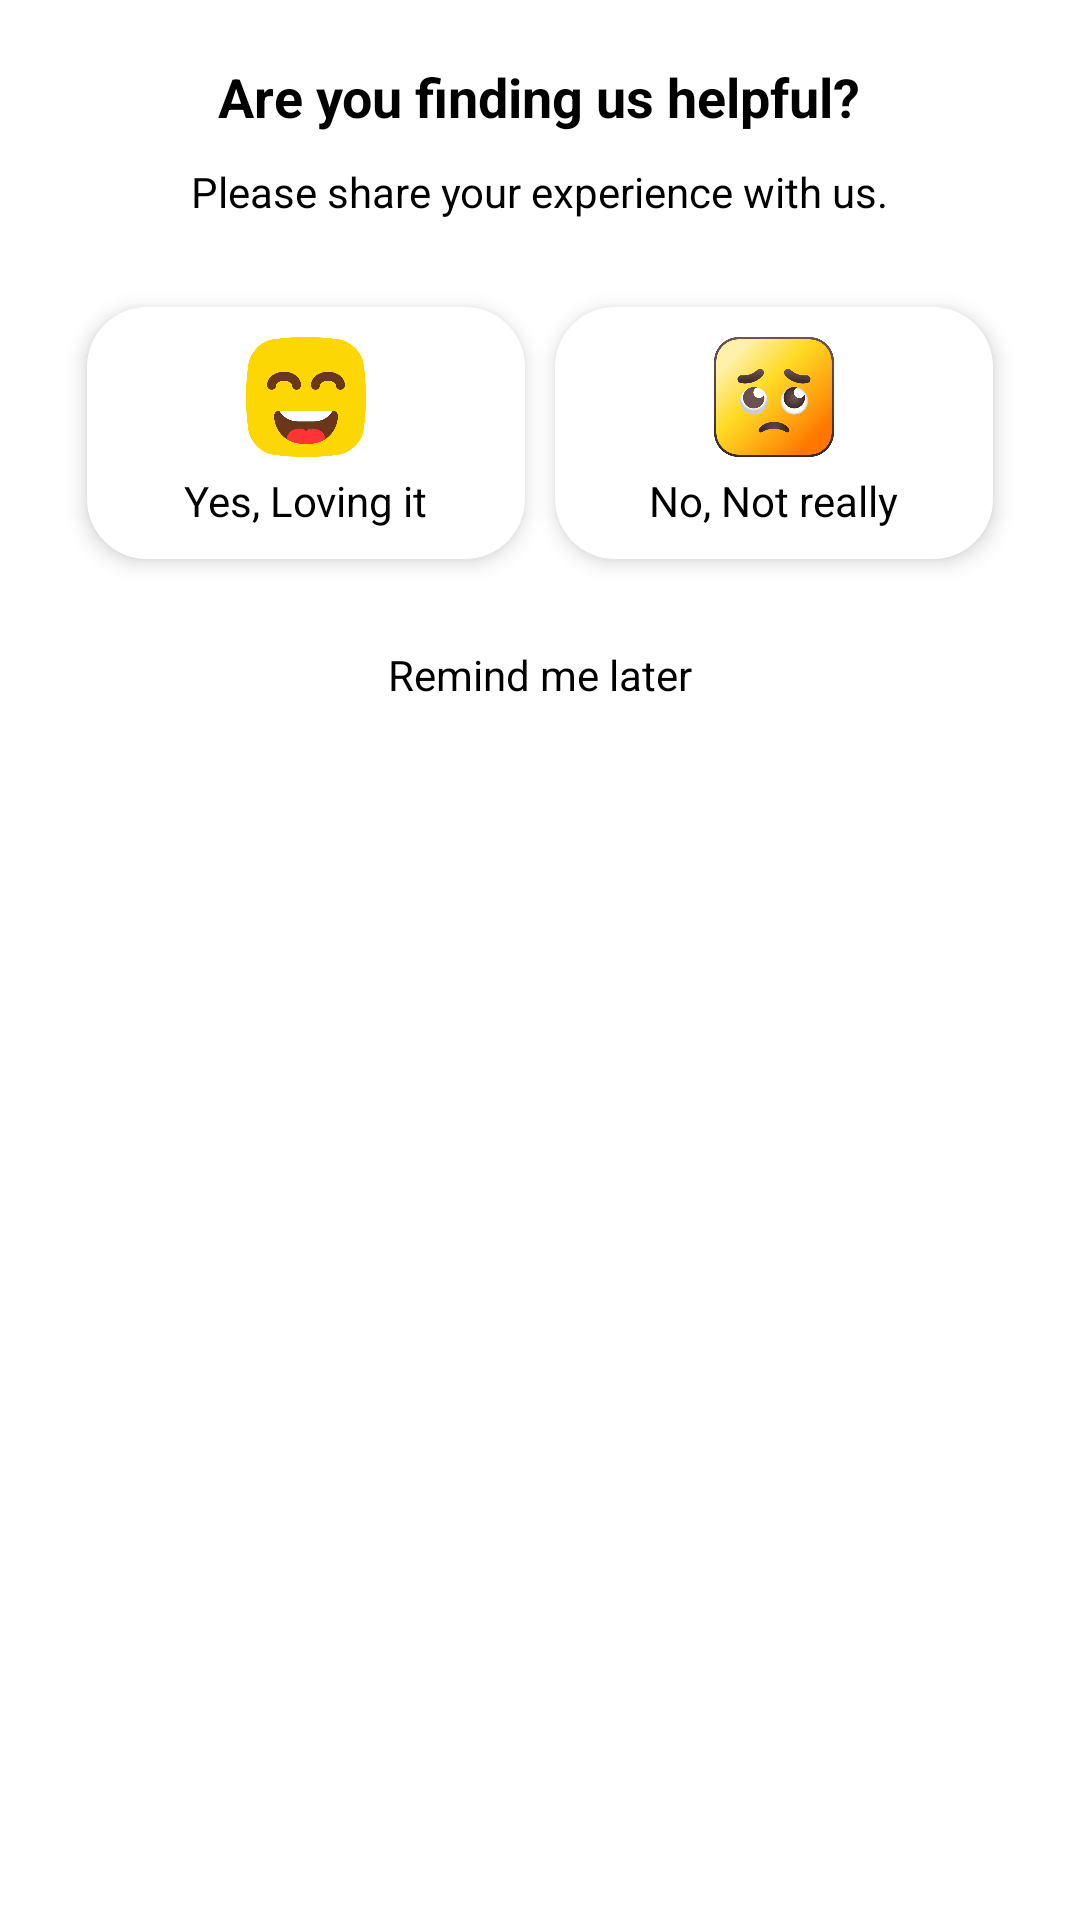

Icon click points for this 1080w x 1920h phone screenshot, format [x,y]:
happyic: [306,397]
sad: [774,397]
